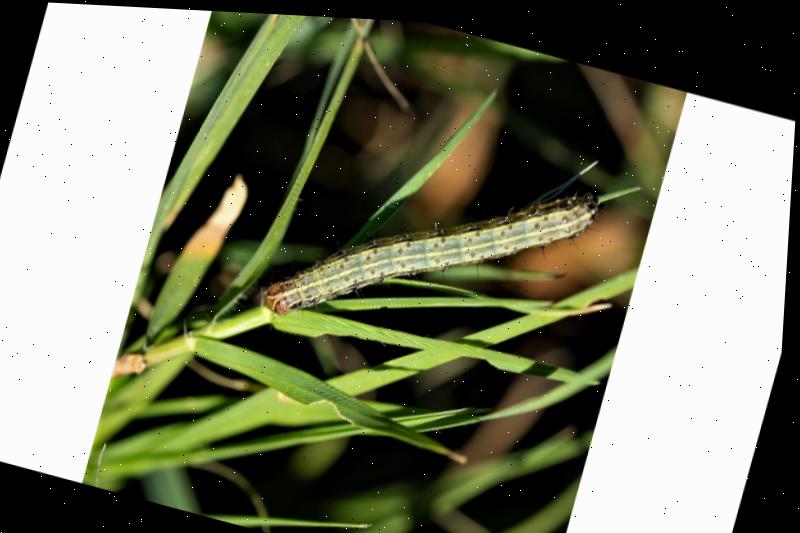fall-armyworm: (265, 174, 603, 312)
